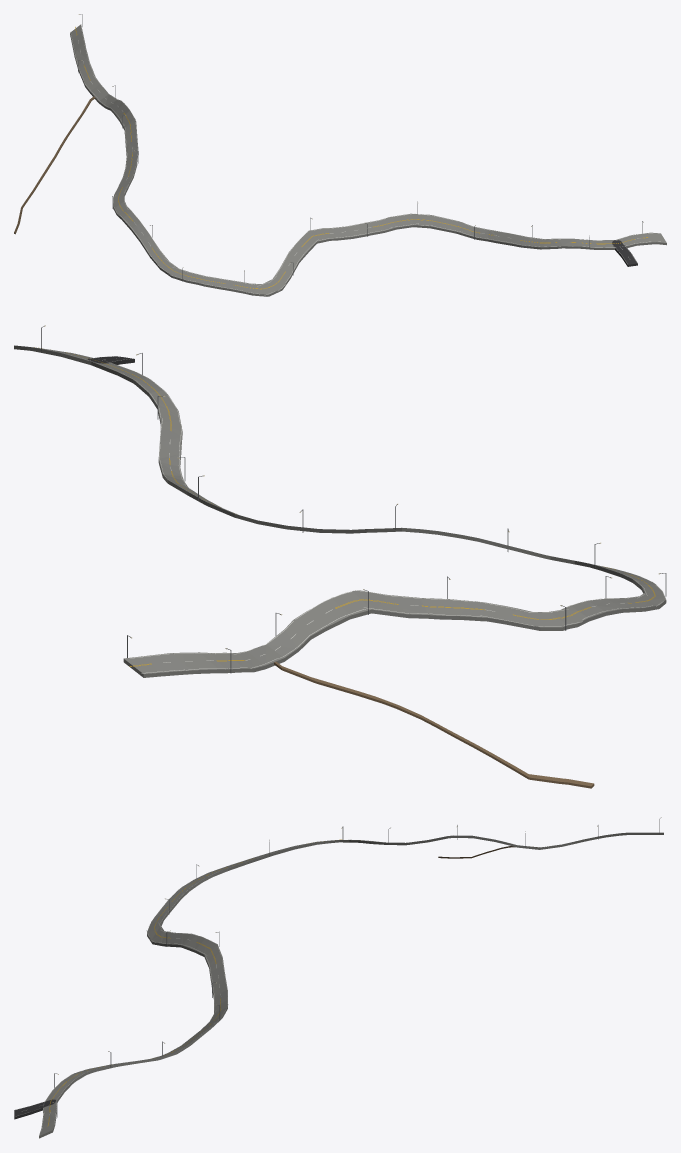
The picture shows the model from 3 angles, top to bottom: view 1: azimuth 30°, elevation 25°; view 2: azimuth 150°, elevation 25°; view 3: azimuth 270°, elevation 25°; orthographic projection. The views are drawn at different scales.
Bounding box in the file's own units: 293 × 69.17 × 293.
